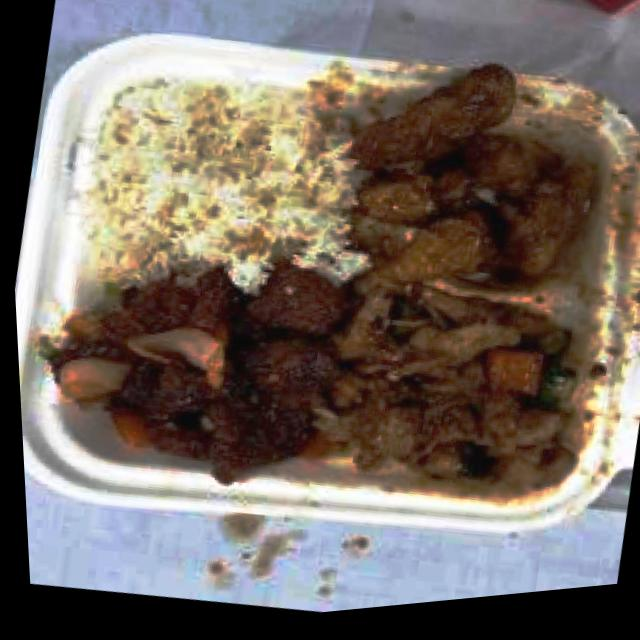Beijing Beef: (36, 224, 336, 490)
Kung Pao Chicken: (308, 250, 606, 512)
rice: (75, 62, 356, 281)
